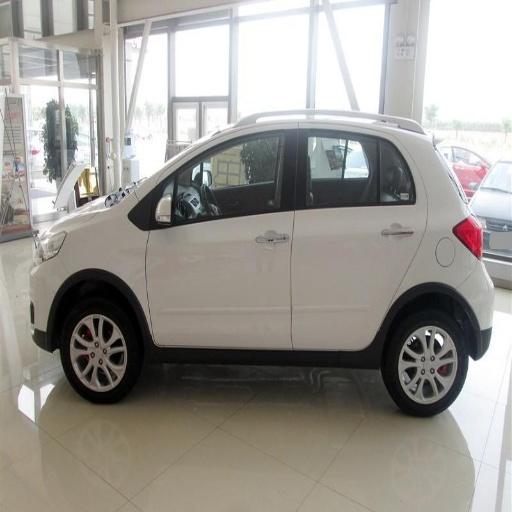back_left_door: (292, 117, 425, 348)
front_left_door: (146, 120, 302, 343)
